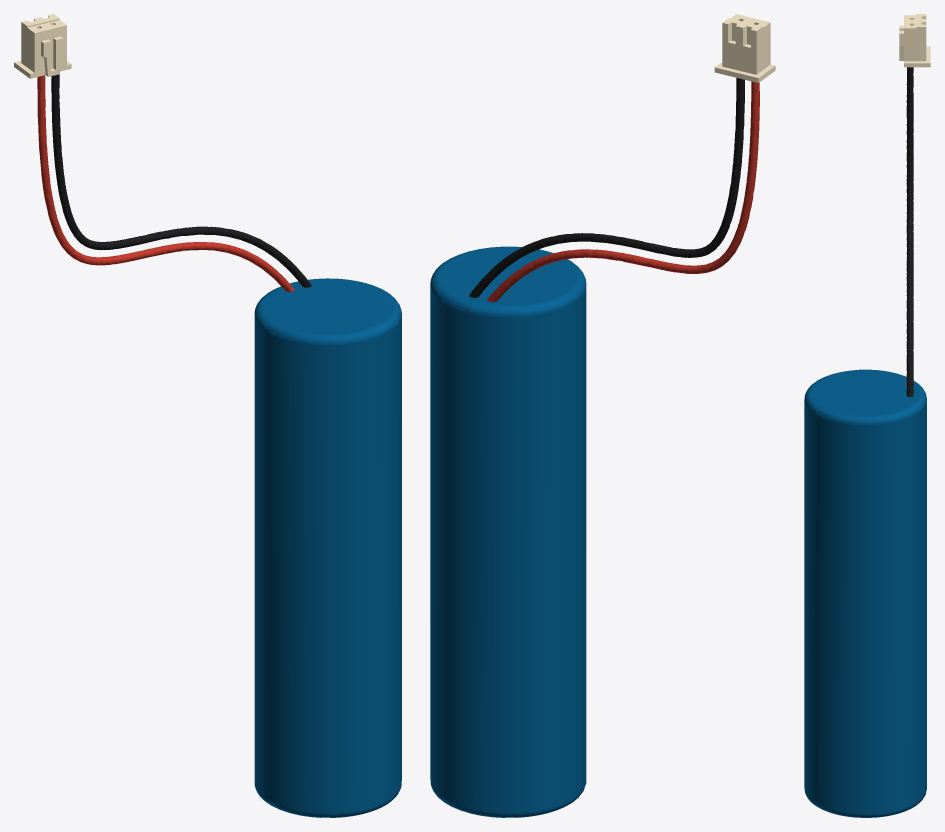
Rendered from battery.glb.
3 views of the same model, side by side, from view 1: azimuth 30°, elevation 25°; view 2: azimuth 150°, elevation 25°; view 3: azimuth 270°, elevation 25° (orthographic). The views are drawn at different scales.
Parts seen in each view (by area): view 1: Component4, Component3, Component5, Component1; view 2: Component4, Component3, Component5, Component1; view 3: Component4, Component5, Component1.
Part boxes in pixels (box(x1,y1,x2,y2)): Component4: box(254, 278, 401, 817); Component3: box(37, 75, 294, 291); Component5: box(51, 71, 311, 287); Component1: box(14, 14, 71, 78); Component4: box(430, 246, 586, 817); Component3: box(487, 81, 759, 302); Component5: box(469, 78, 744, 297); Component1: box(714, 14, 775, 82); Component4: box(804, 369, 926, 817); Component5: box(906, 67, 913, 397); Component1: box(899, 14, 930, 67).
Size of the model in its own units: 47.77 by 109 by 18.52.
